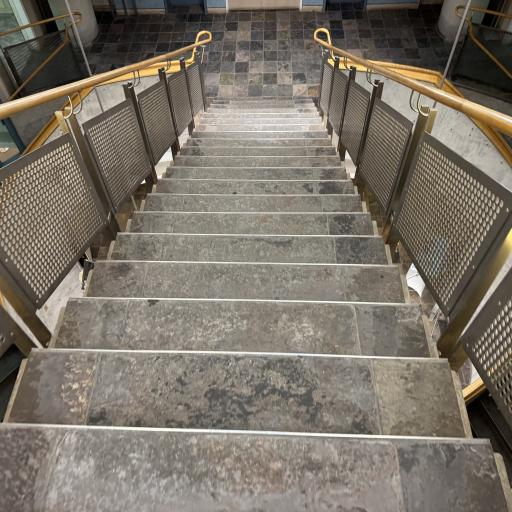Stairs: (0, 98, 506, 512)
